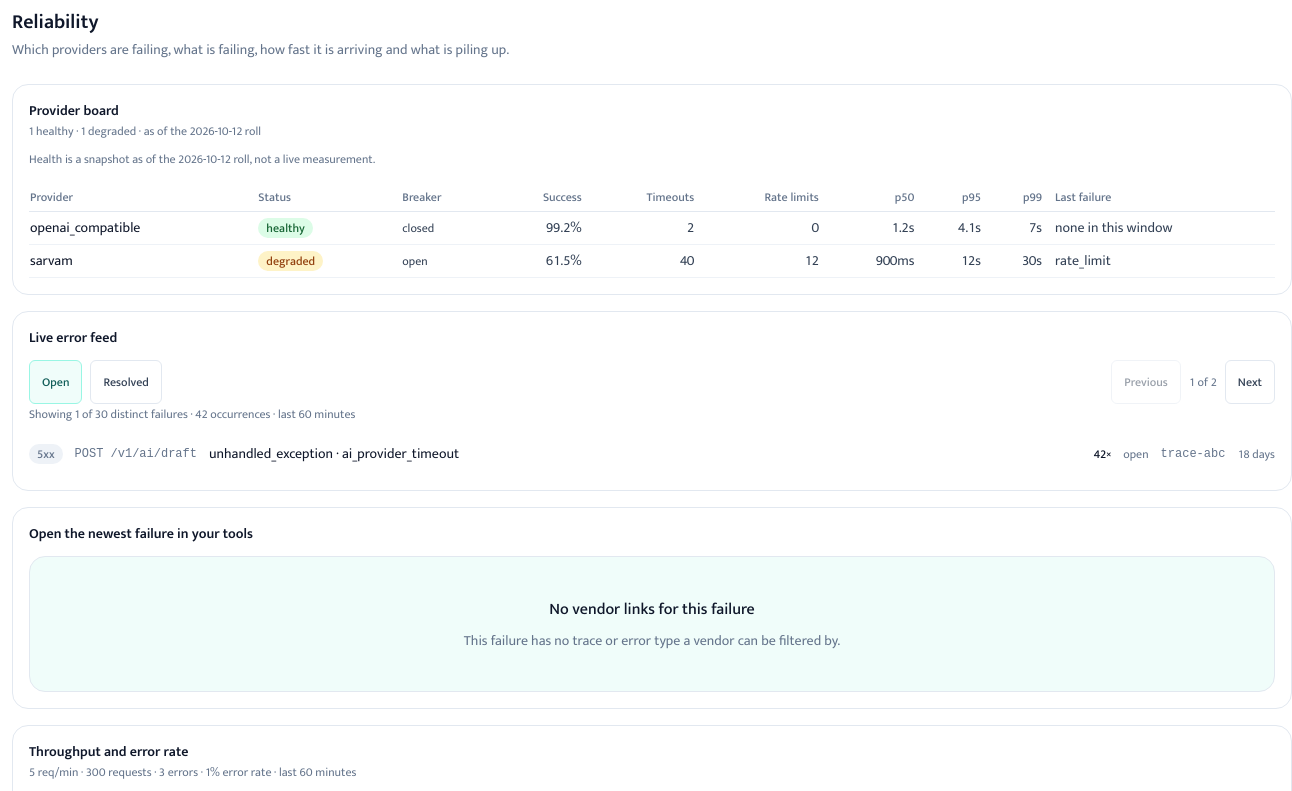
Scenario: ObservabilityReliabilityPage › pages the feed and asks for the page it is on
Click the button with test id "reliability-error-next" at (1250, 382), box [1225,360,1275,404]
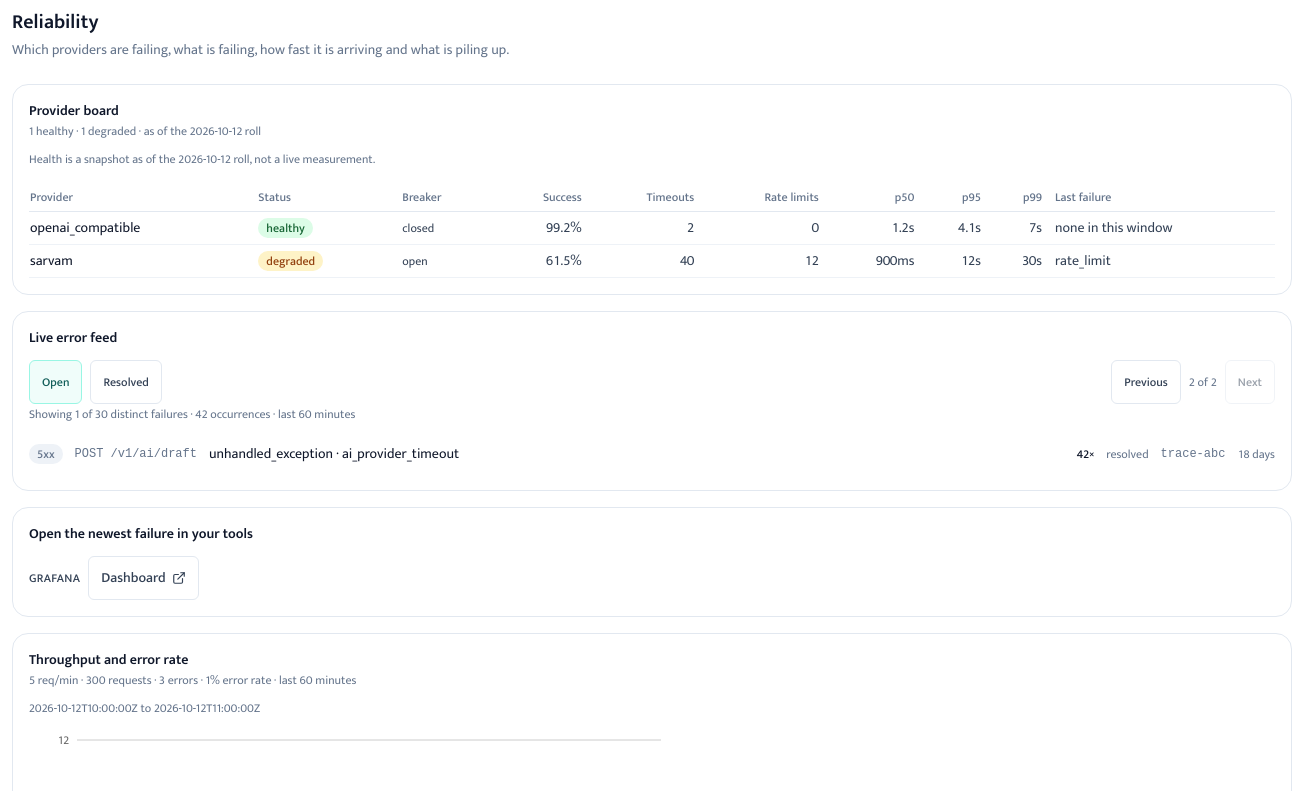
Check: the list item with test id "reliability-error-fp-2" is shown, box [29,442,1275,465]
Check: the text with test id "reliability-error-page" reads "2", box [1189,372,1195,392]
